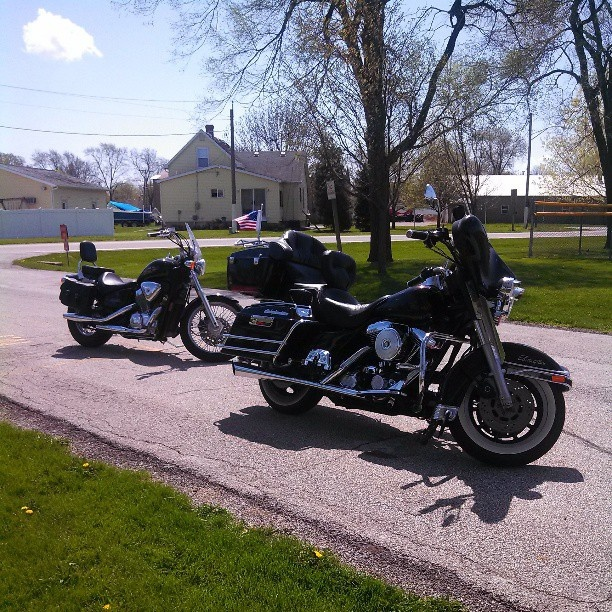non-vehicle: (216, 184, 574, 467), (59, 222, 237, 368)
